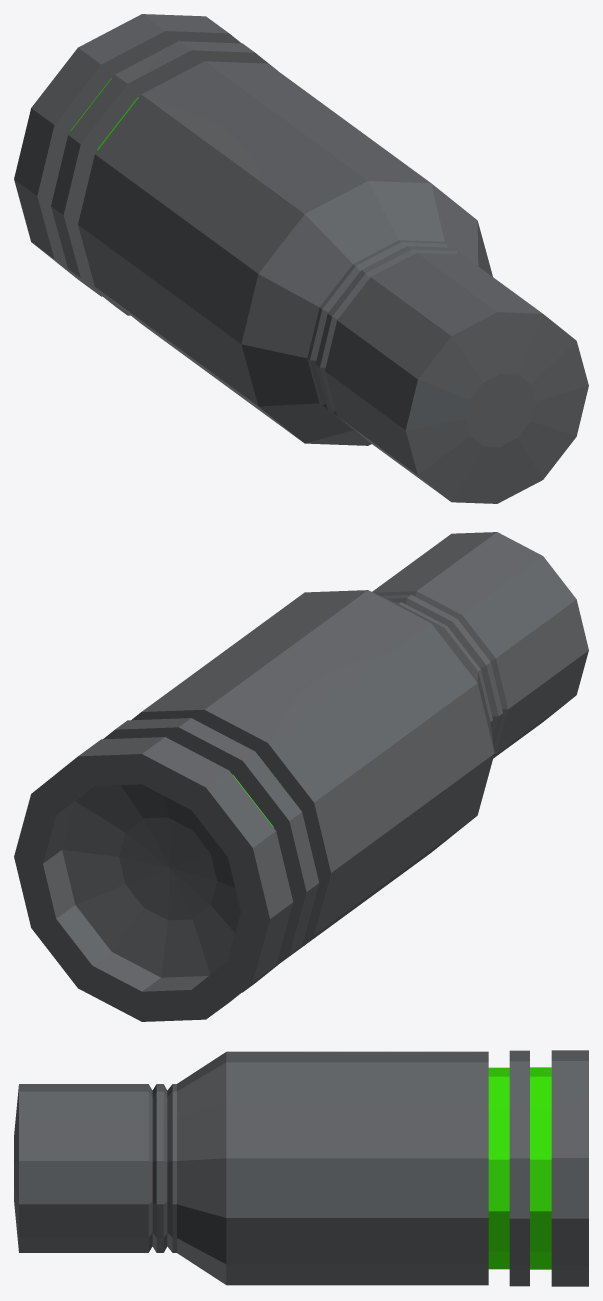
The model's file is FlareModel.fbx.
3 renders of one model, top to bottom at view 1: azimuth 30°, elevation 25°; view 2: azimuth 150°, elevation 25°; view 3: azimuth 270°, elevation 25°, orthographic. The views are drawn at different scales.
Visible parts, largest first — view 1: flareModel; view 2: flareModel; view 3: flareModel.
Part boxes in pixels (box(x1,y1,x2,y2)): flareModel: box(14, 14, 588, 503); flareModel: box(14, 532, 588, 1021); flareModel: box(14, 1050, 588, 1286).
Size of the model in its own units: 181 by 181 by 439.
Materials: 2 (1 with a texture image).
